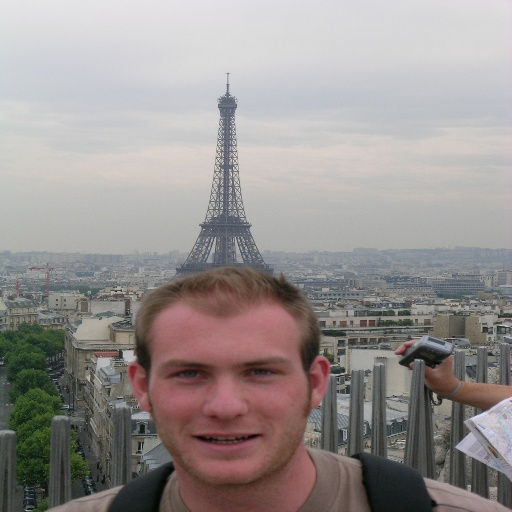hand: (399, 340, 491, 410)
